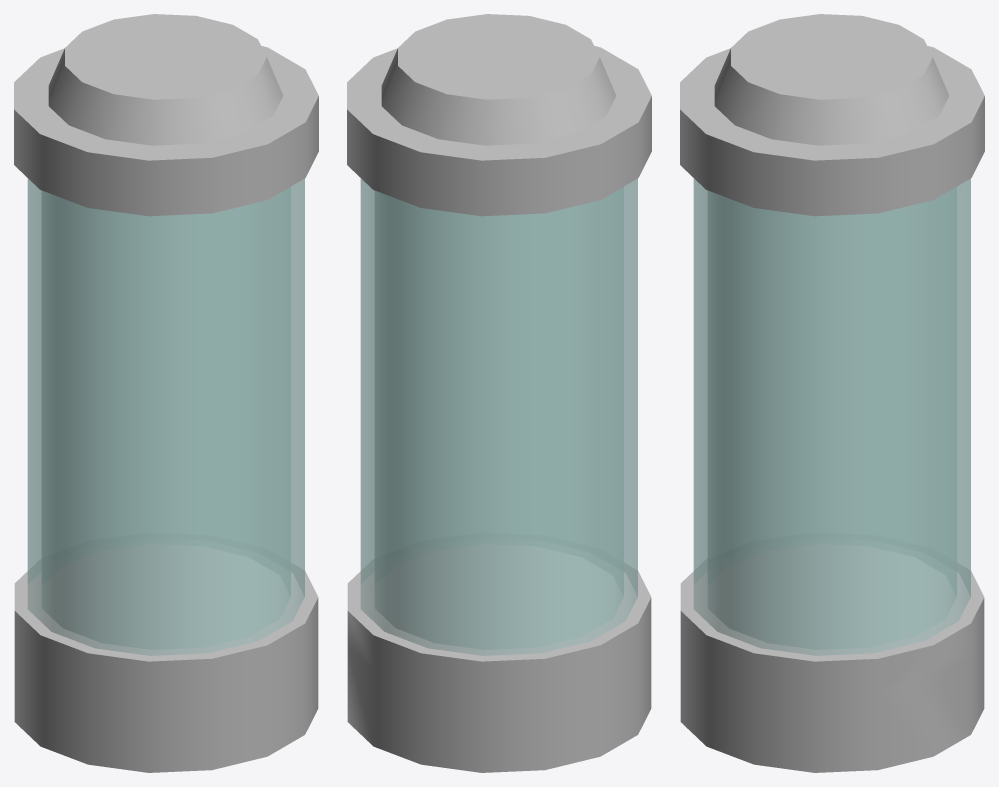
3 renders of one model, left to right at view 1: azimuth 30°, elevation 25°; view 2: azimuth 150°, elevation 25°; view 3: azimuth 270°, elevation 25°, orthographic.
Parts seen in each view (by area): view 1: Cylinder.003_Glass_0; view 2: Cylinder.003_Glass_0; view 3: Cylinder.003_Glass_0.
Boxes of the visible parts, x1,y1,x2,y2 form: Cylinder.003_Glass_0: (14, 14, 318, 772); Cylinder.003_Glass_0: (347, 14, 651, 772); Cylinder.003_Glass_0: (680, 14, 984, 772).
Bounding box in the file's own units: 0.0499 × 0.117 × 0.0496.
